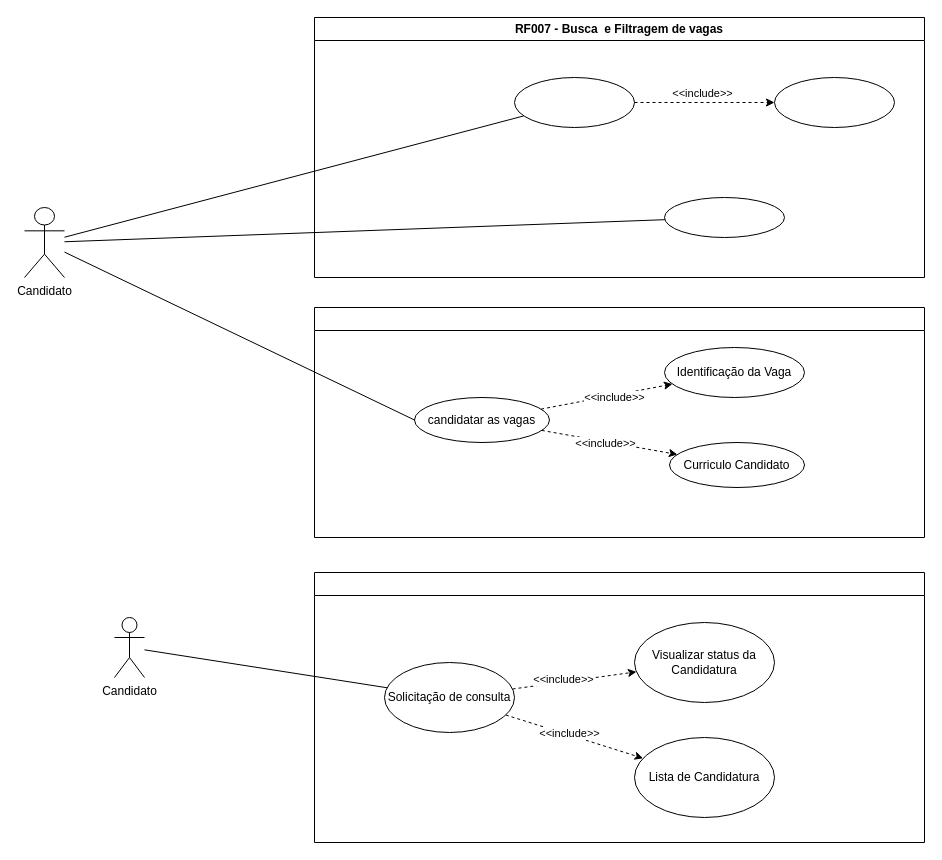
Some shapes in this 942 by 860 pixel diagram are drawn without their labels. Each missing label, with the box of its shape:
Buscar vagas: (514, 76, 634, 128)
Filtrar vagas: (774, 76, 894, 128)
RF008 - Candidatura a vaga: (314, 306, 924, 538)
RF009 - Acompanhamento de Candidatura: (314, 572, 924, 842)
Vizualizar Recomendadas: (664, 196, 784, 238)
